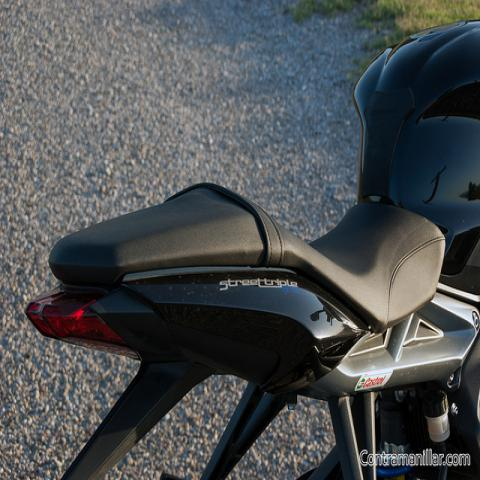motorcycle: (23, 19, 479, 479)
